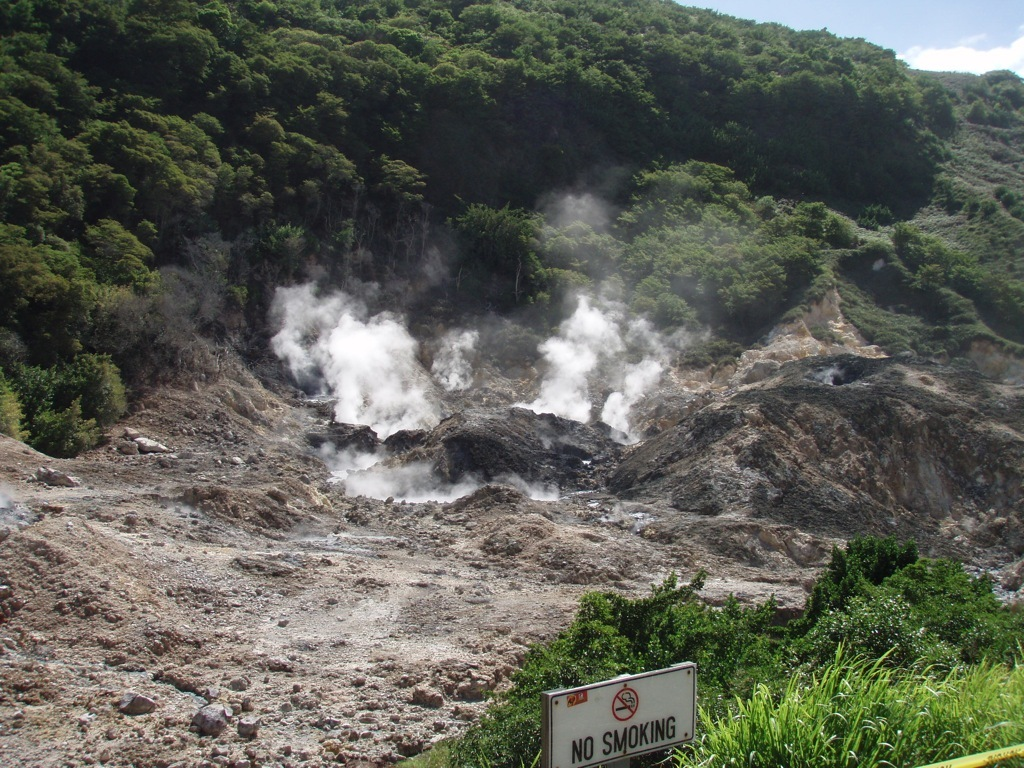Tree: (0, 0, 1024, 460)
